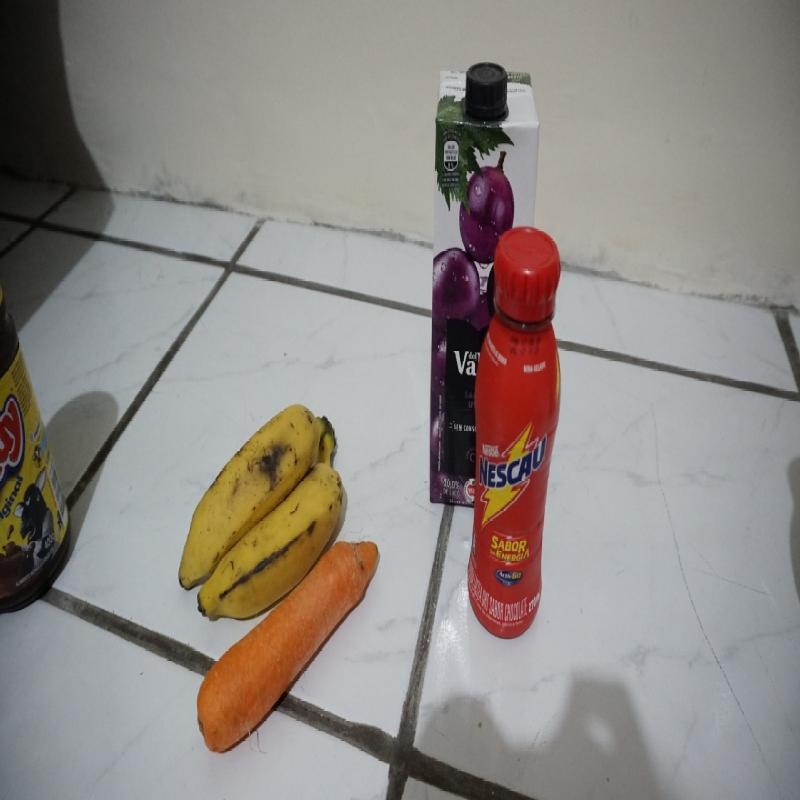Banana: (175, 403, 342, 583)
Carrot: (175, 588, 339, 752)
Chocolate Milk: (467, 226, 560, 630)
Chocolate Powder: (0, 290, 69, 601)
